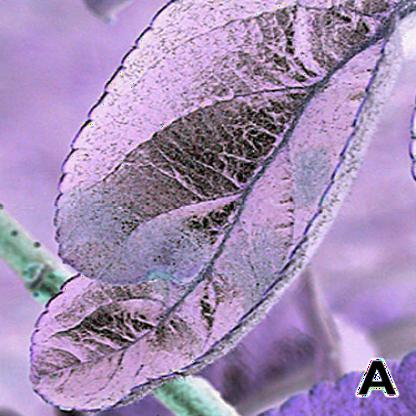Apple Scab Leaf: (27, 3, 415, 408)
